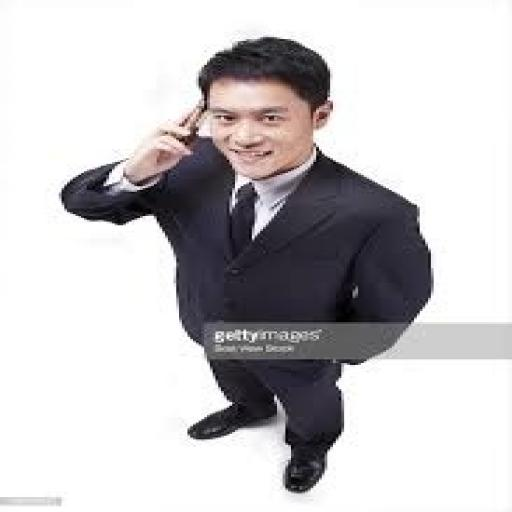calling: (56, 34, 436, 495)
